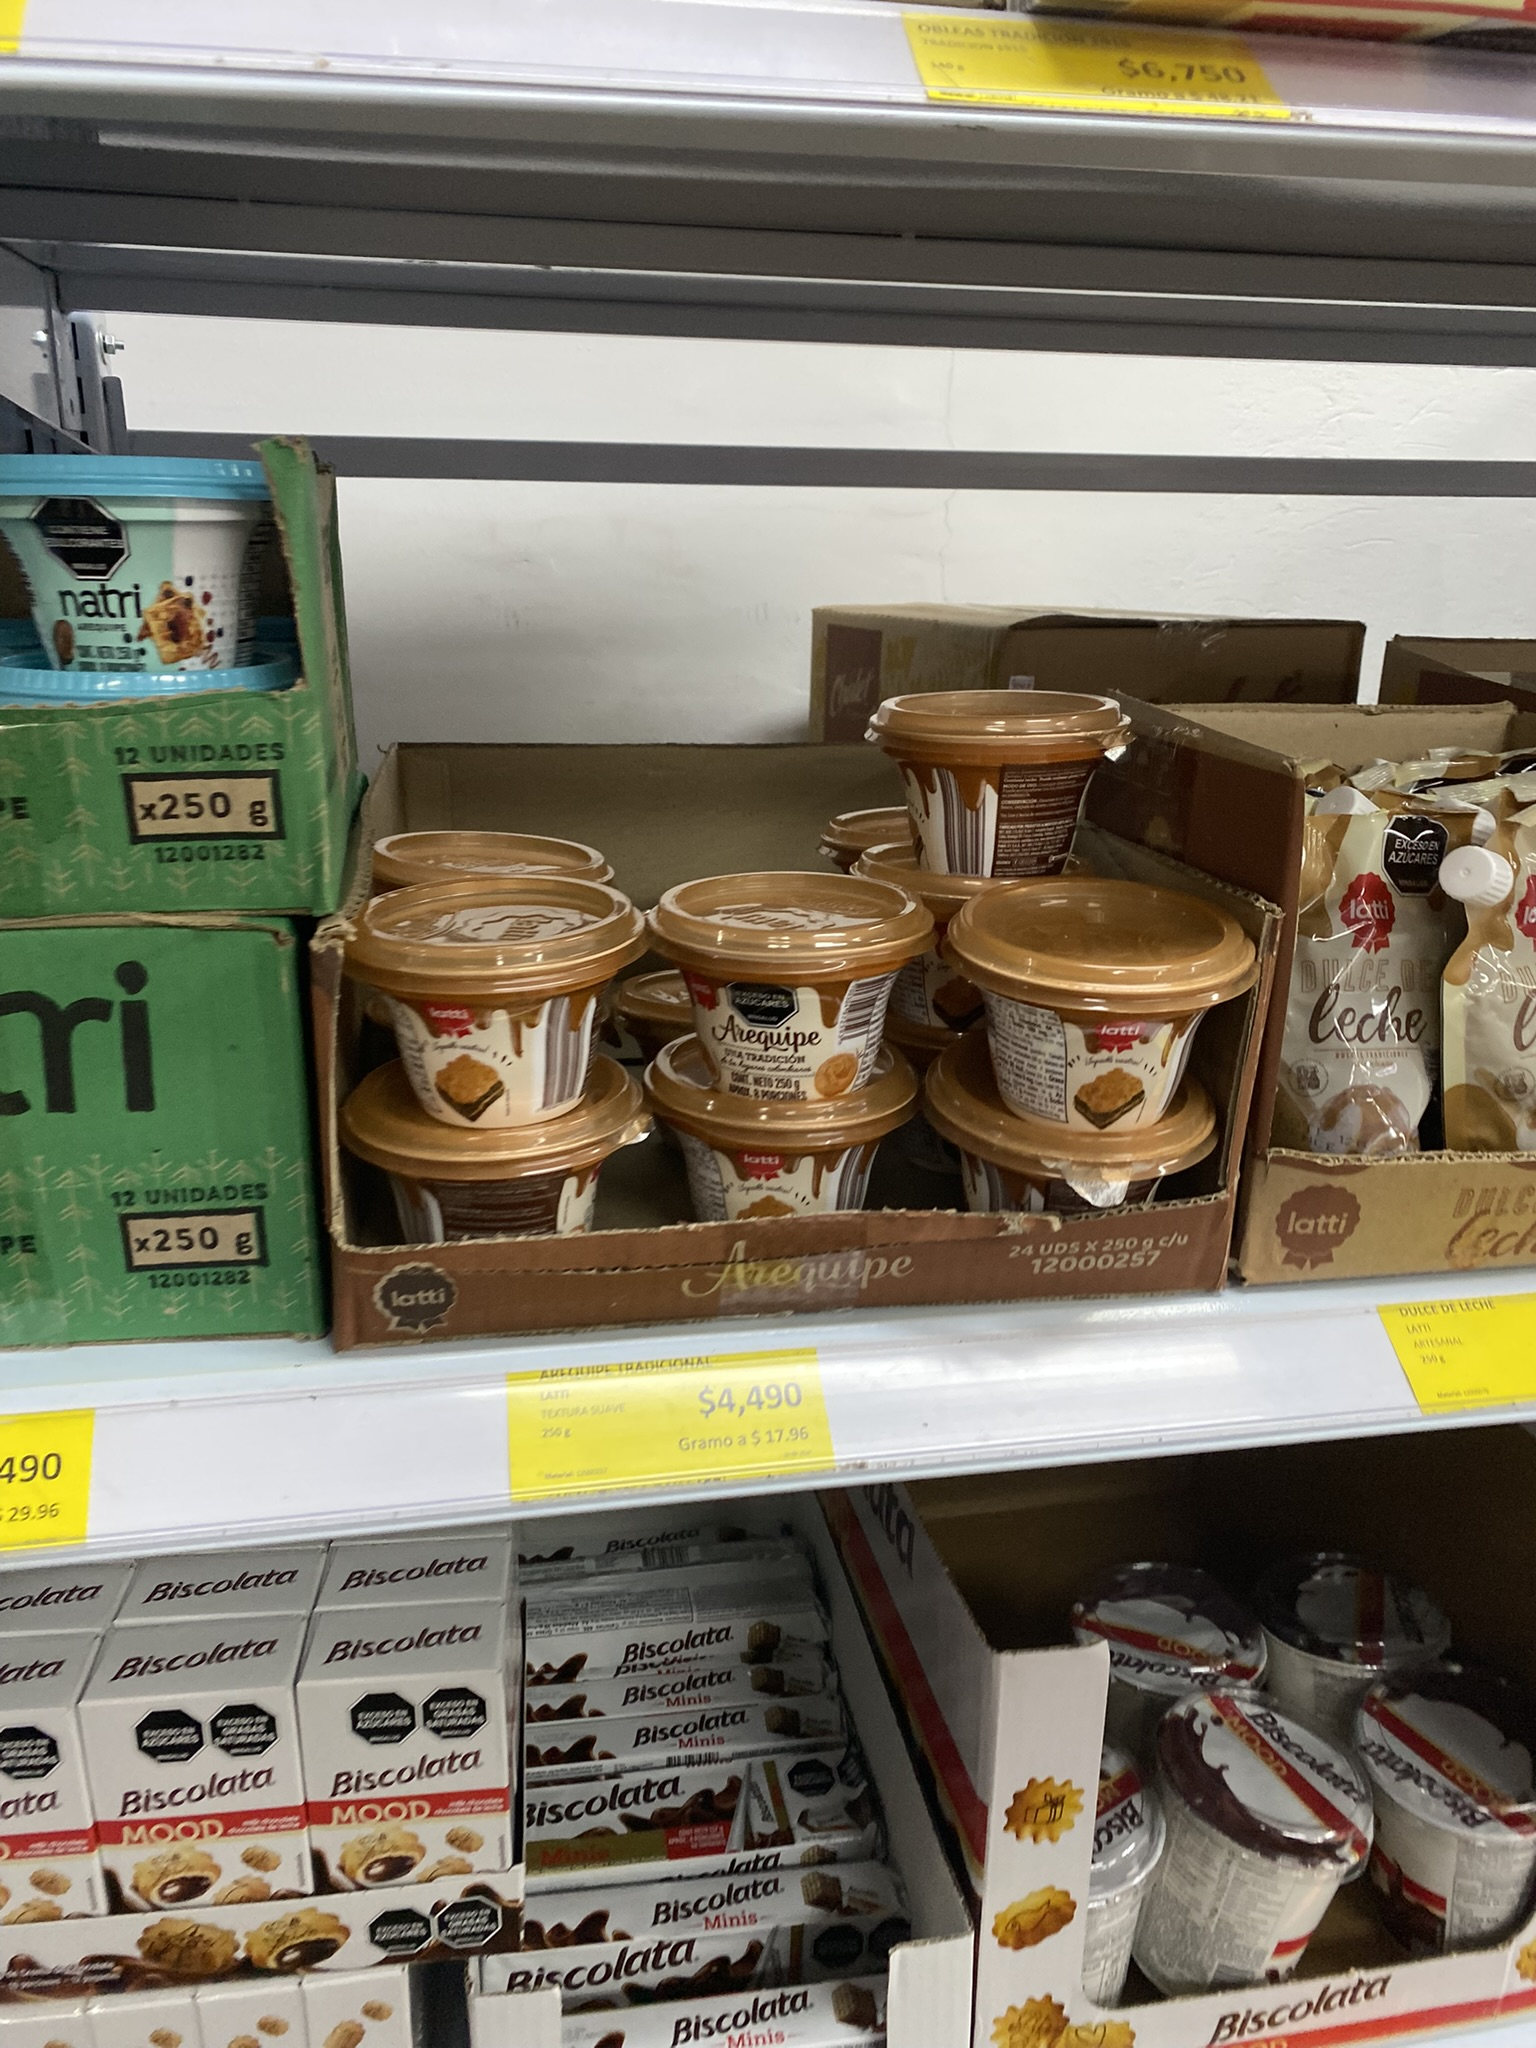Arequipe: (337, 850, 636, 1124), (957, 858, 1250, 1113), (632, 853, 937, 1092), (863, 681, 1158, 874), (644, 1095, 895, 1237)
